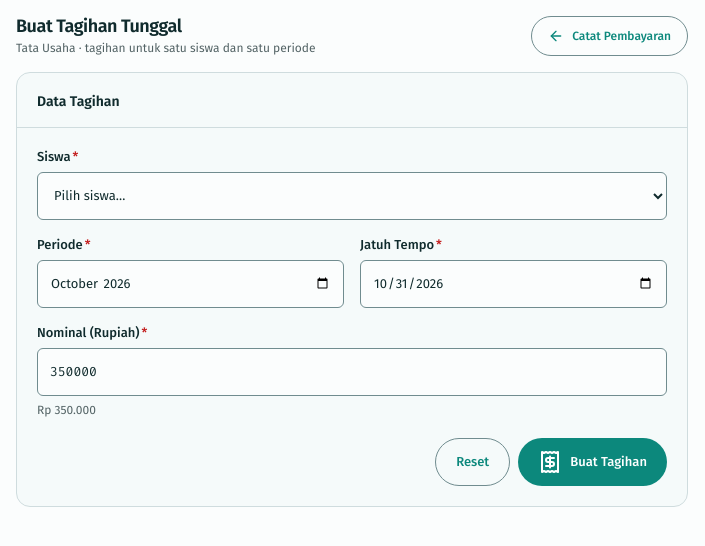
Test: SppSingleBillPage › shows an inline error when the bill already exists (409)
The image size is (705, 546).
Select "Ahmad Fauzi · 2026001" in the dropdown labelled "Siswa*": {"x": 352, "y": 196} [37, 172, 667, 220]
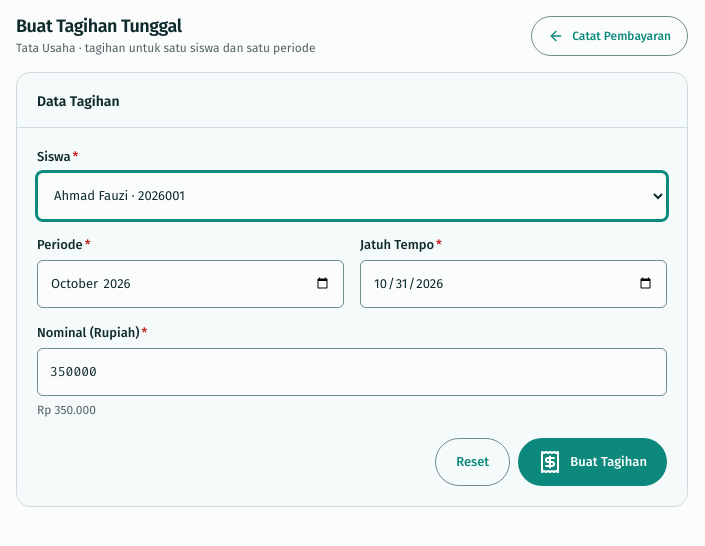
Click the button "Buat Tagihan": {"x": 593, "y": 462} [518, 438, 667, 486]
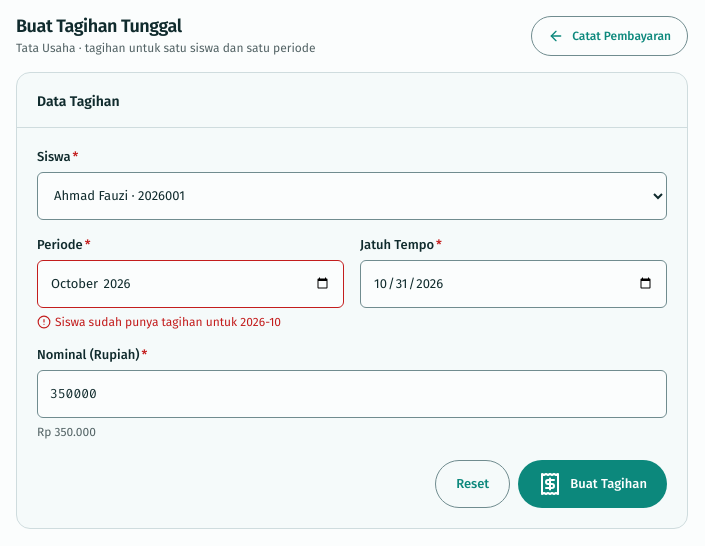
Expected: the text "Siswa sudah punya tagihan untuk 2026-10" is shown, [37, 314, 281, 328]
